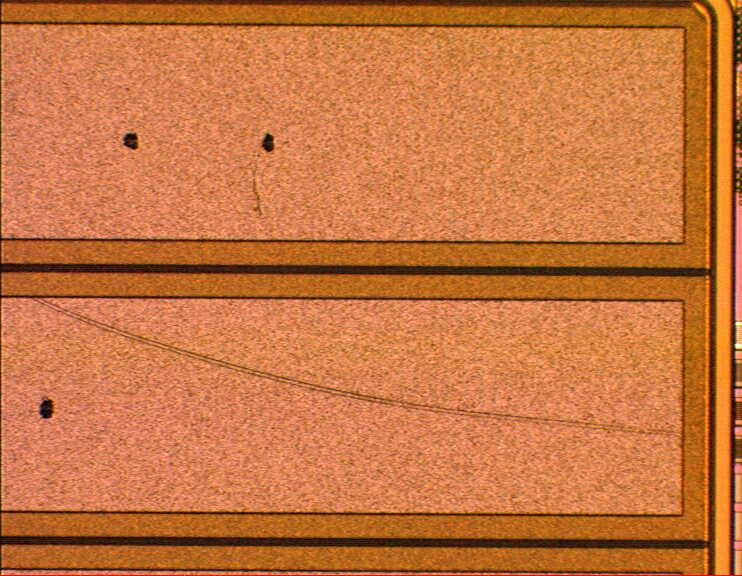SCRATCH: (7, 277, 683, 444)
